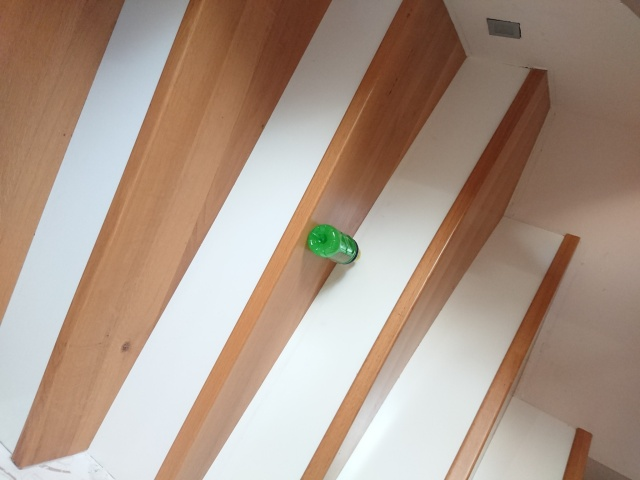Vindi Iso Sport Lemon-Grapefruit 500mL: (305, 222, 362, 266)
